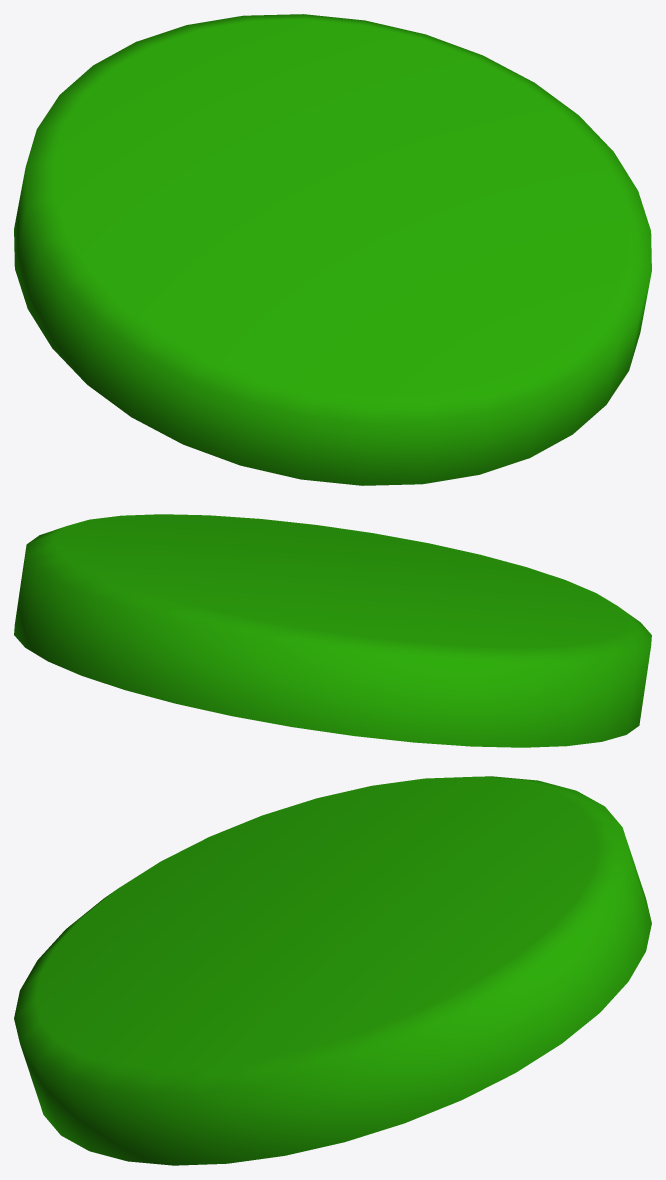
The picture shows the model from 3 angles, top to bottom: view 1: azimuth 30°, elevation 25°; view 2: azimuth 150°, elevation 25°; view 3: azimuth 270°, elevation 25°; orthographic projection.
Visible parts, largest first — view 1: b3.002; view 2: b3.002; view 3: b3.002.
Part boxes in pixels (x1,y1,x2,y2): b3.002: (14,14,651,485); b3.002: (14,514,651,747); b3.002: (14,776,651,1165).
Size of the model in its own units: 42.91 by 18.01 by 42.69.
